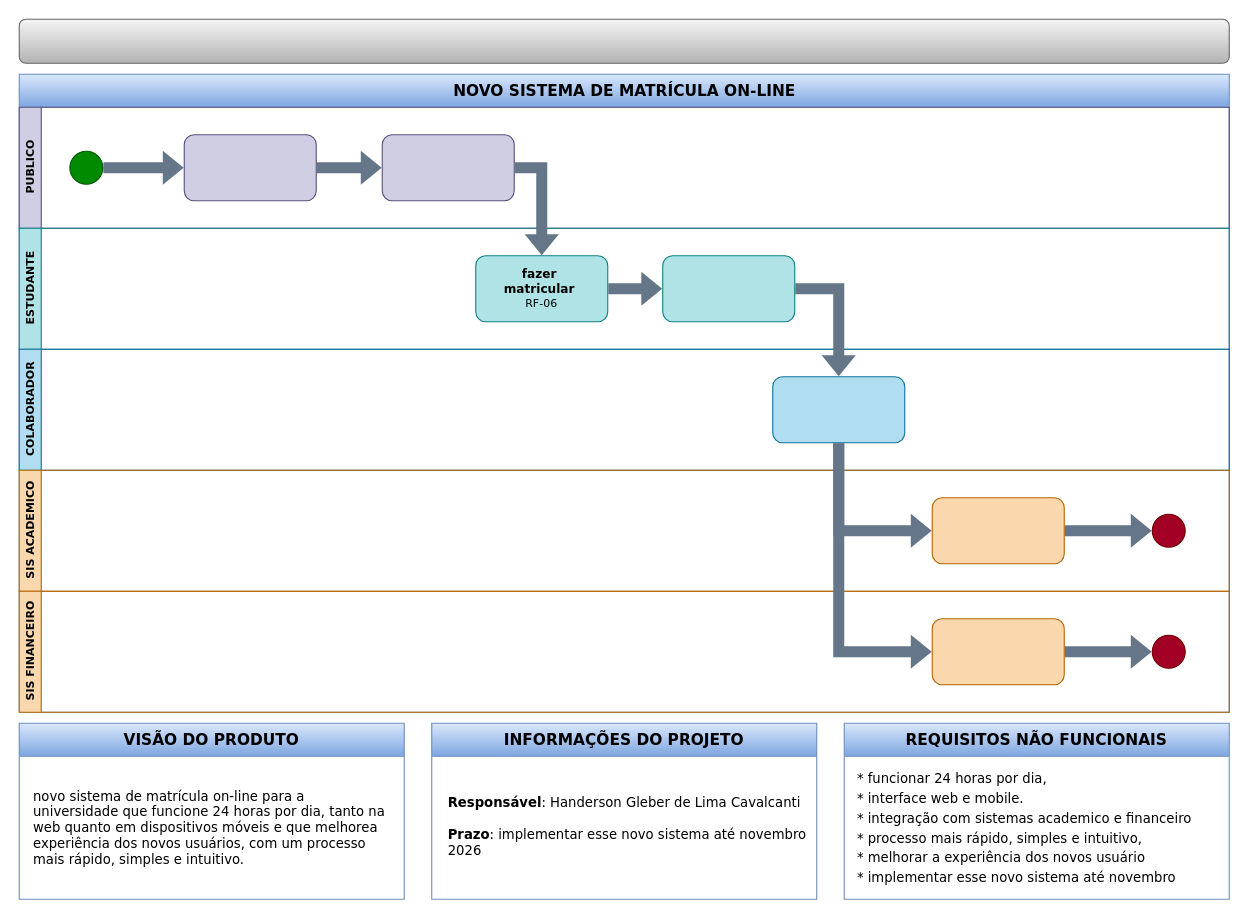
The diagram is 1249 pixels wide and 919 high, and some of its shapes have lost their labels. The centre of each missing label's shape, as x and y in pixels:
"confirmar matrícula RF-15" belongs at pixel 838 409.
"Fazer Cadastro RF-02" belongs at pixel 447 167.
"FLUXO MACRO" belongs at pixel 623 40.
"gerar a sala de aula do estudante RF-21" belongs at pixel 997 530.
"gerar o contrato financeiro RF-22" belongs at pixel 997 651.
"pagar matricular RF-09" belongs at pixel 728 288.
"Visualizar Cursos RF-04" belongs at pixel 249 167.
